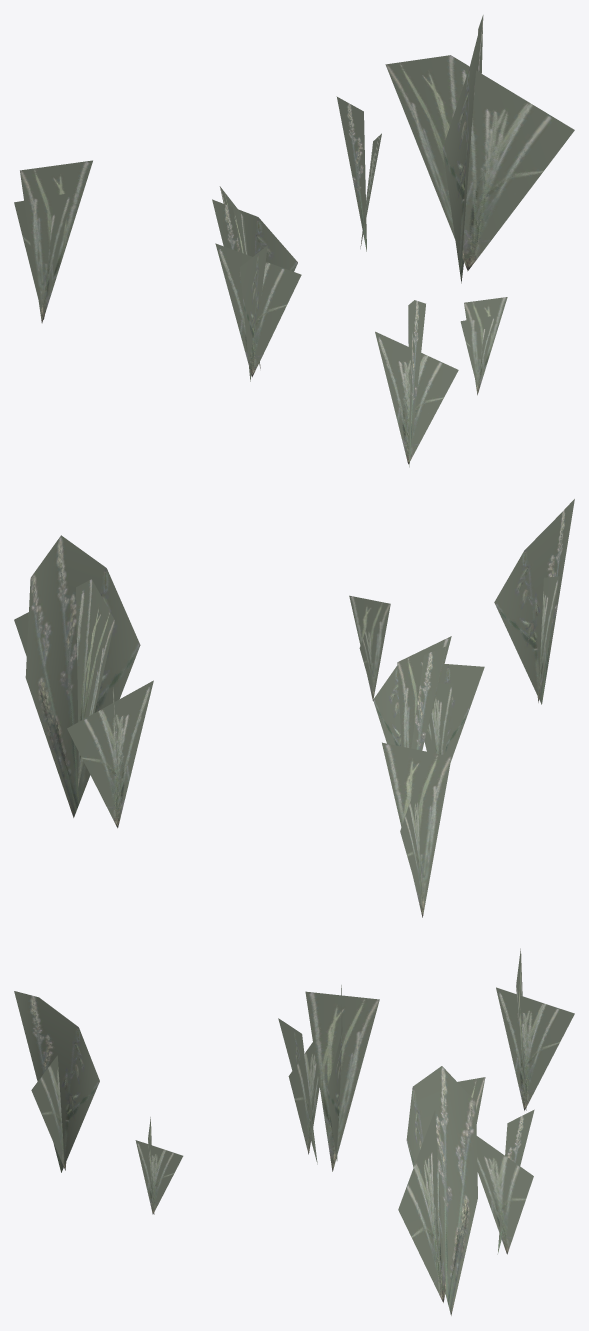
Rendered from proc_grassfronds01.FBX.
3 renders of one model, top to bottom at view 1: azimuth 30°, elevation 25°; view 2: azimuth 150°, elevation 25°; view 3: azimuth 270°, elevation 25°, orthographic. The views are drawn at different scales.
Visible parts, largest first — view 1: proc_grassfronds01; view 2: proc_grassfronds01; view 3: proc_grassfronds01.
Part boxes in pixels (<box>): proc_grassfronds01: <box>14,15,574,467</box>; proc_grassfronds01: <box>14,499,574,917</box>; proc_grassfronds01: <box>14,948,574,1315</box>.
Bounding box in the file's own units: 2.43 × 2.5 × 1.27.
1 material, 1 textured.
